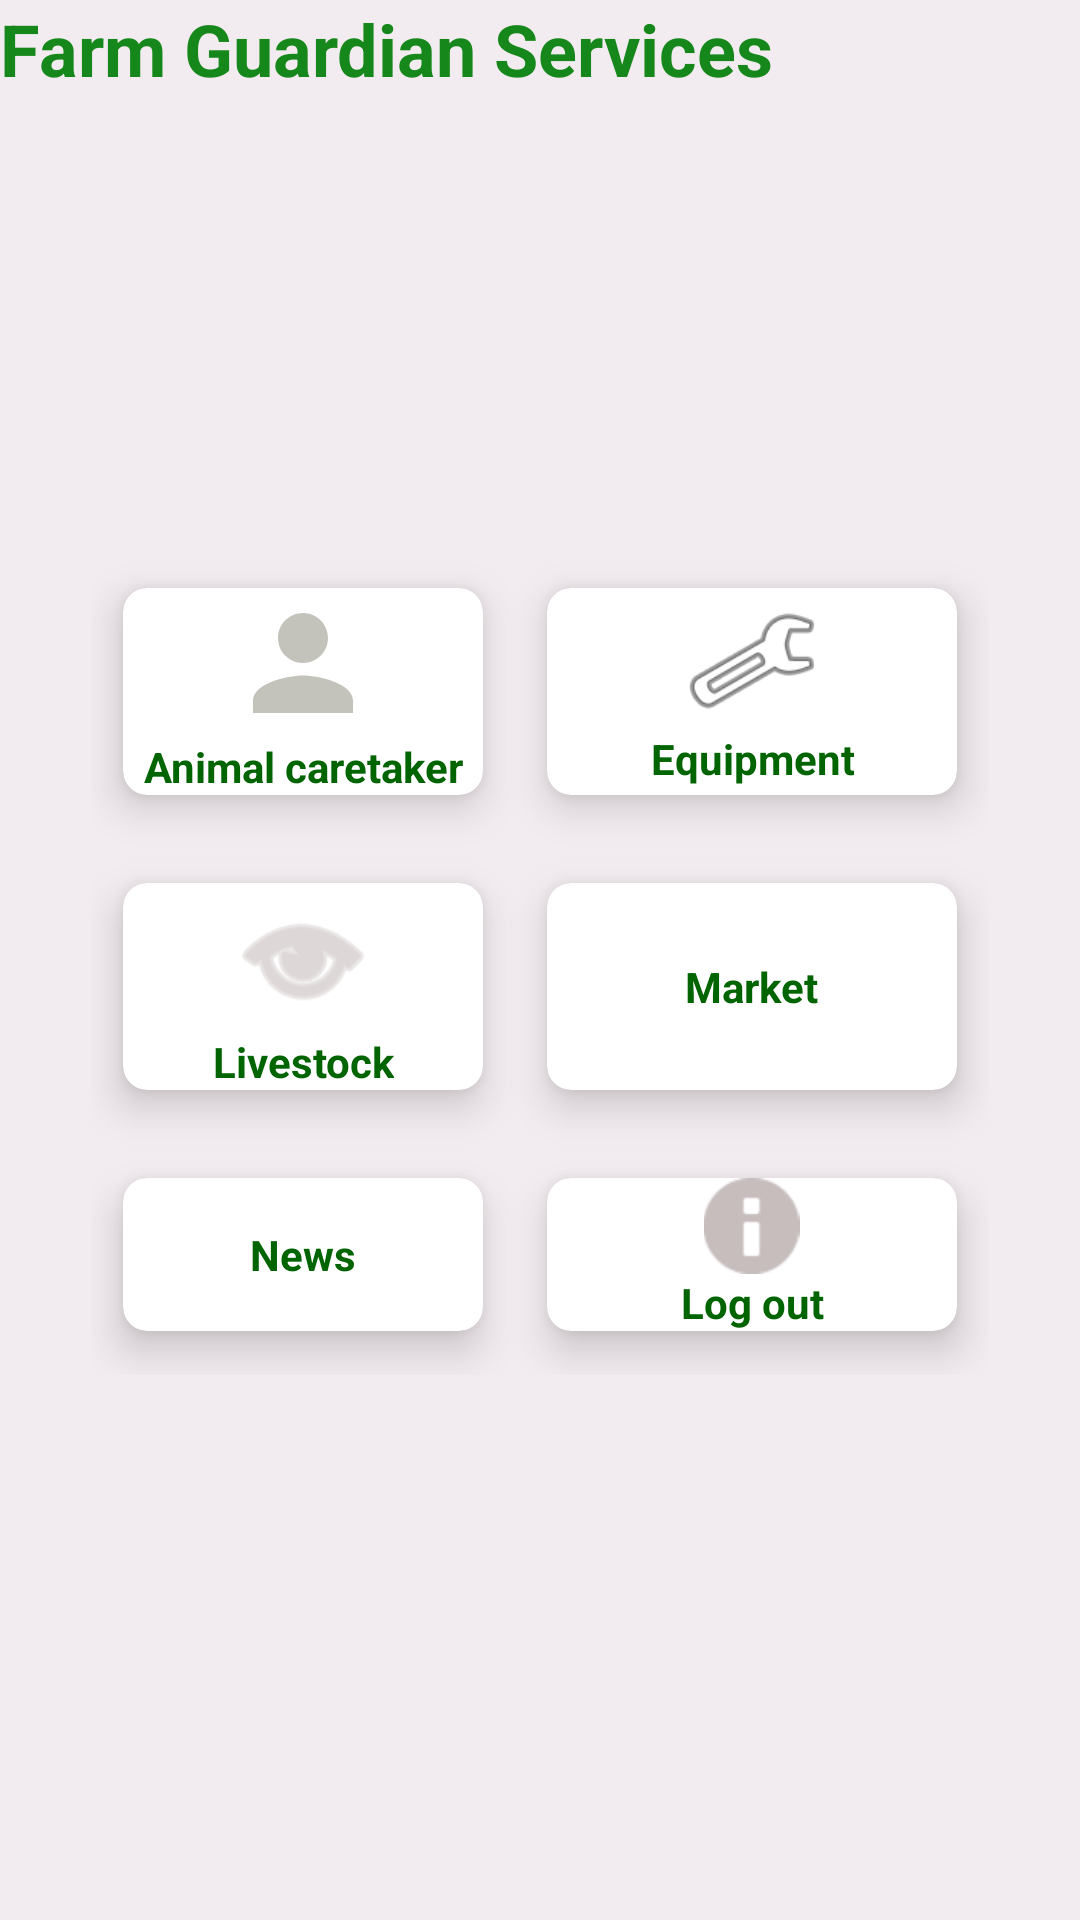

Icons on this 1080x1920 Android screen, each with the point to tap as [x,y]:
info: [752,1226]
manage: [752,661]
person: [303,663]
view: [303,961]
